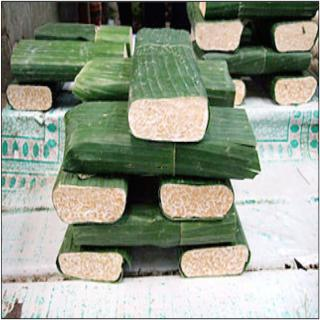Tempe: (53, 97, 262, 282), (63, 100, 262, 180), (10, 38, 130, 83), (53, 170, 129, 225), (128, 96, 210, 143), (203, 46, 313, 76), (159, 180, 235, 222), (72, 56, 134, 102), (180, 245, 250, 279), (59, 251, 125, 283), (195, 20, 245, 52), (272, 20, 319, 53), (270, 75, 318, 106), (7, 84, 54, 112), (34, 22, 98, 42)
